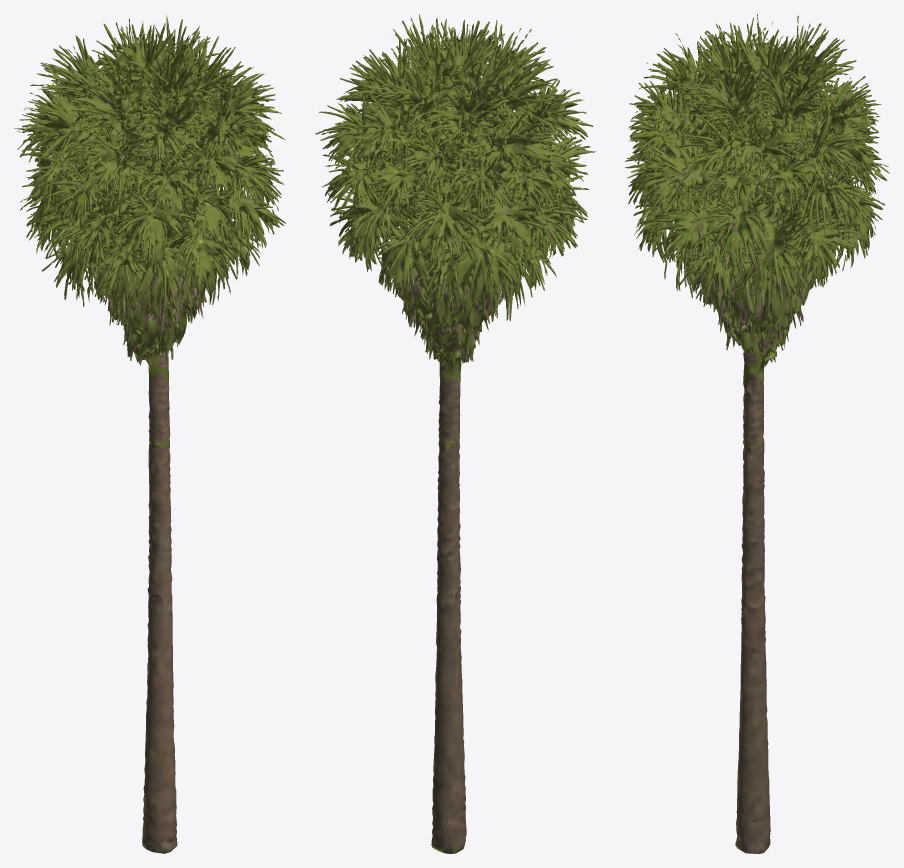
Rendered from lagoon_a.glb.
3 renders of one model, left to right at view 1: azimuth 30°, elevation 25°; view 2: azimuth 150°, elevation 25°; view 3: azimuth 270°, elevation 25°, orthographic.
Bounding box in the file's own units: 0.6034 × 2 × 0.5931.
Materials: 1 (1 with a texture image).
